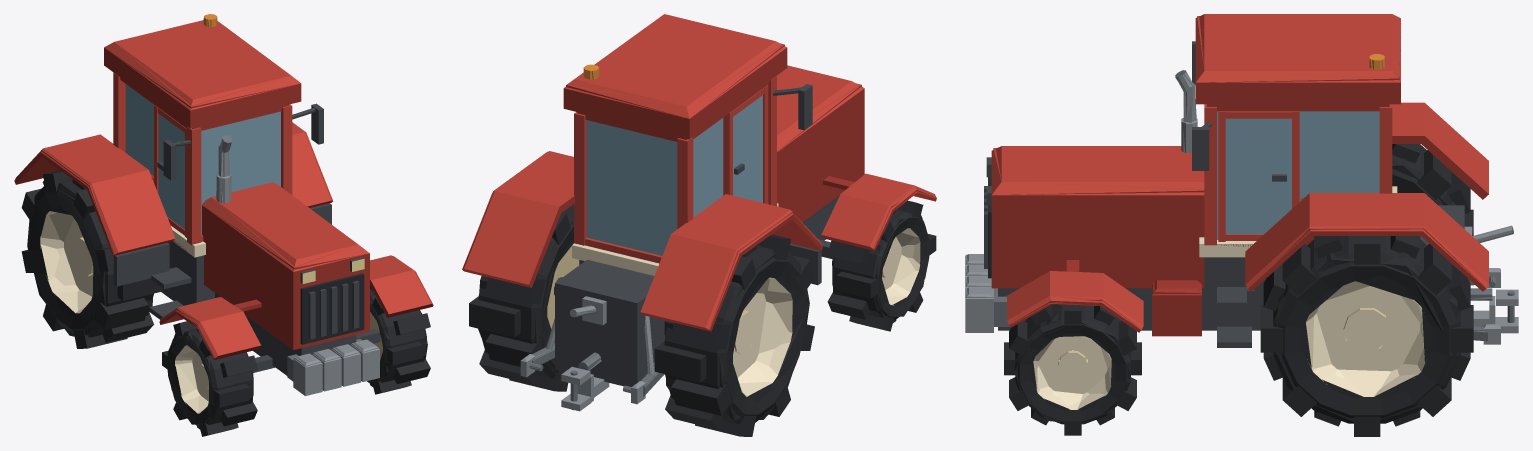
Rendered from FMS_Mach_Tractor_Cab.fbx.
The picture shows the model from 3 angles, left to right: view 1: azimuth 30°, elevation 25°; view 2: azimuth 150°, elevation 25°; view 3: azimuth 270°, elevation 25°; orthographic projection. The views are drawn at different scales.
Parts seen in each view (by area): view 1: Body, Body_Low1, Wheel_RR, Wheel_FR, Wheel_RR_Low1, Wheel_FL, Wheel_FR_Low1, Wheel_FL_Low1; view 2: Body, Body_Low1, Wheel_RR, Wheel_RL, Wheel_FR, Wheel_RR_Low1, Wheel_FR_Low1, Wheel_RL_Low1, Linkage_Rear, Linkage_Rear_Low1; view 3: Body, Wheel_RL, Body_Low1, Wheel_FL, Wheel_RL_Low1, Door_L, Wheel_FL_Low1, Wheel_RR, Linkage_Rear, Door_L_Low1, Wheel_RR_Low1.
Part boxes in pixels (x1=…): Body: x1=14, y1=14, x2=433, y2=395; Body_Low1: x1=14, y1=14, x2=406, y2=381; Wheel_RR: x1=21, y1=170, x2=163, y2=348; Wheel_FR: x1=162, y1=321, x2=257, y2=436; Wheel_RR_Low1: x1=22, y1=170, x2=162, y2=342; Wheel_FL: x1=367, y1=286, x2=430, y2=394; Wheel_FR_Low1: x1=162, y1=324, x2=256, y2=428; Wheel_FL_Low1: x1=369, y1=287, x2=430, y2=386; Body: x1=462, y1=14, x2=936, y2=411; Body_Low1: x1=462, y1=27, x2=935, y2=396; Wheel_RR: x1=654, y1=234, x2=814, y2=436; Wheel_RL: x1=469, y1=204, x2=579, y2=391; Wheel_FR: x1=827, y1=200, x2=936, y2=331; Wheel_RR_Low1: x1=654, y1=245, x2=809, y2=429; Wheel_FR_Low1: x1=828, y1=210, x2=936, y2=321; Wheel_RL_Low1: x1=469, y1=213, x2=573, y2=391; Linkage_Rear: x1=520, y1=305, x2=663, y2=404; Linkage_Rear_Low1: x1=520, y1=306, x2=664, y2=403; Body: x1=965, y1=14, x2=1518, y2=347; Wheel_RL: x1=1260, y1=236, x2=1473, y2=436; Body_Low1: x1=966, y1=14, x2=1508, y2=330; Wheel_FL: x1=1004, y1=304, x2=1141, y2=435; Wheel_RL_Low1: x1=1260, y1=236, x2=1473, y2=436; Door_L: x1=1218, y1=111, x2=1299, y2=241; Wheel_FL_Low1: x1=1004, y1=305, x2=1141, y2=435; Wheel_RR: x1=1392, y1=144, x2=1473, y2=235; Linkage_Rear: x1=1468, y1=225, x2=1513, y2=344; Door_L_Low1: x1=1218, y1=111, x2=1299, y2=241; Wheel_RR_Low1: x1=1392, y1=144, x2=1473, y2=235.
Size of the model in its own units: 2.41 by 3 by 4.42.
